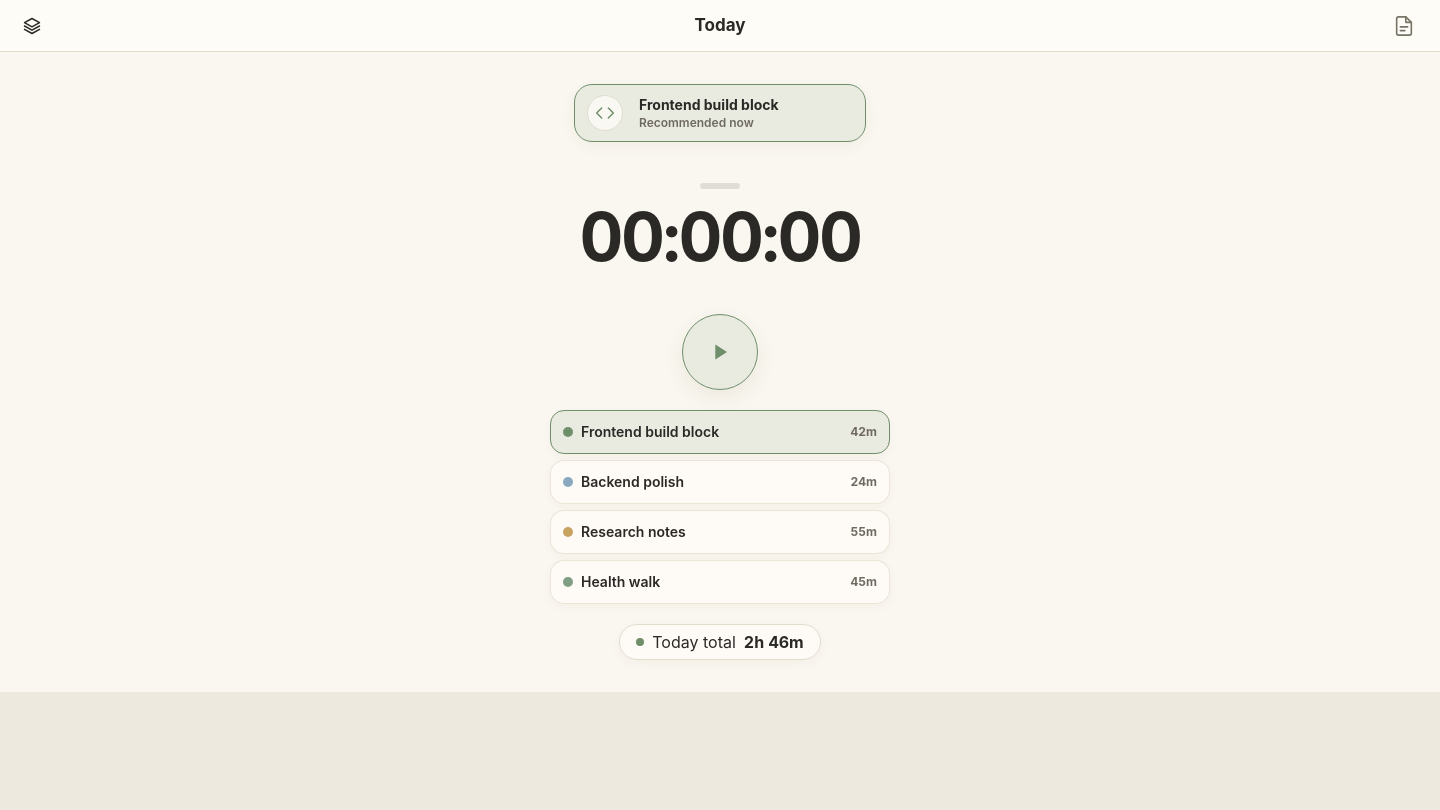
Test: TrackScreen › keeps multiple Activity bars visible for quick foreground switching
This screenshot has width=1440, height=810.
Click the button with aria-label "Switch focus to Backend polish": {"x": 633, "y": 482} [550,460,890,504]
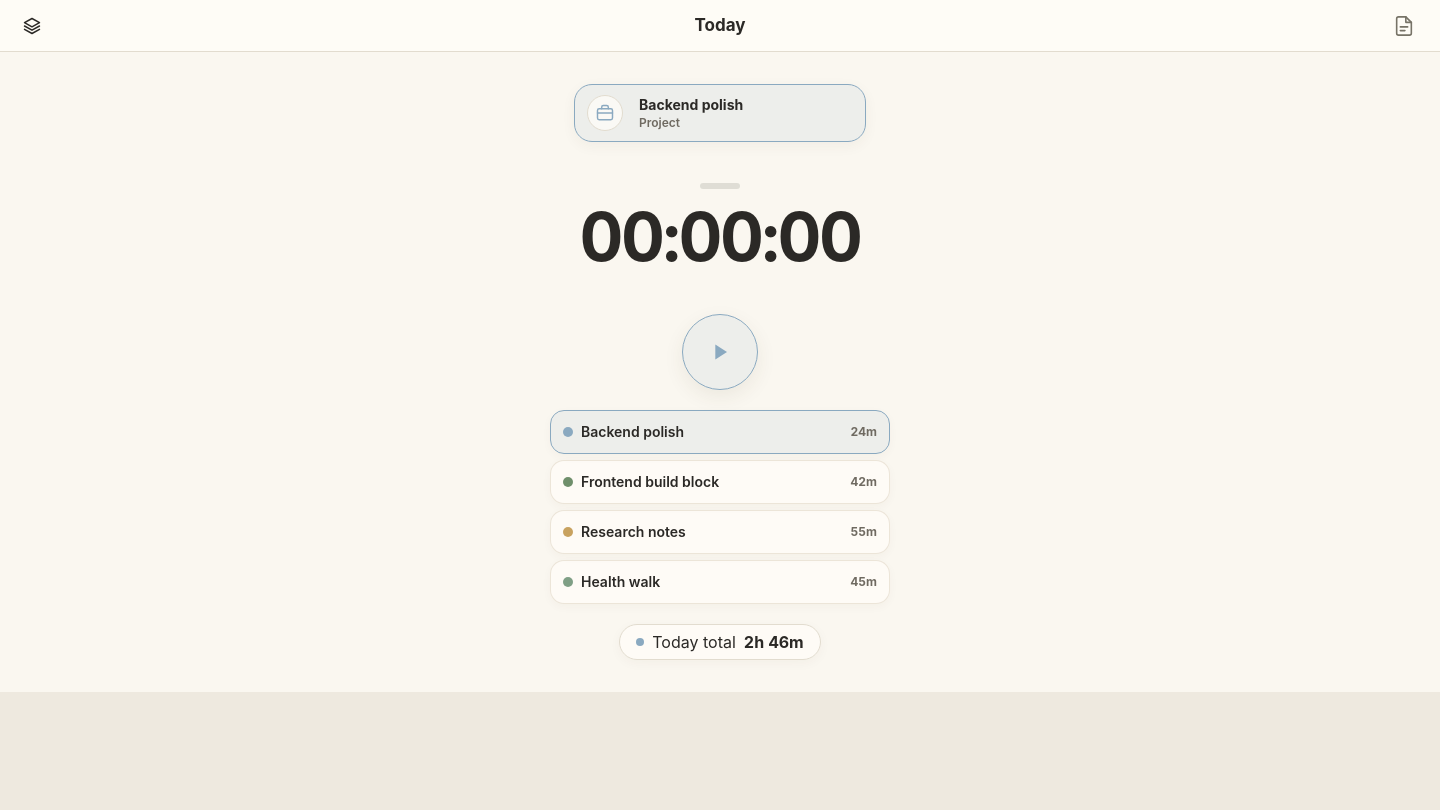
Expected: the number of buttons named "Start focus activity" is 1, [682,314,758,390]
Expected: the button with aria-label "Change focus activity" shows "Backend polish", [574,84,866,142]
